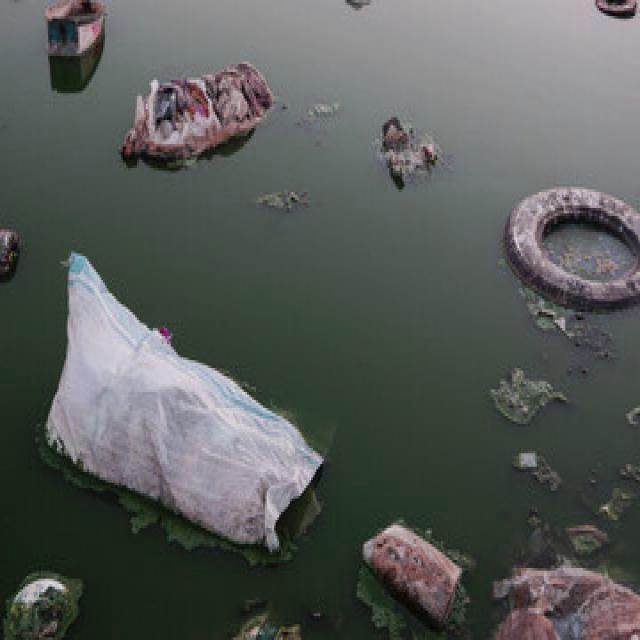Plastic: (119, 60, 273, 172)
Trash: (48, 249, 322, 551), (504, 184, 640, 309), (479, 555, 640, 640), (358, 516, 465, 619), (0, 566, 84, 640), (368, 113, 443, 190), (41, 0, 103, 62), (0, 228, 21, 285), (594, 0, 640, 19)
